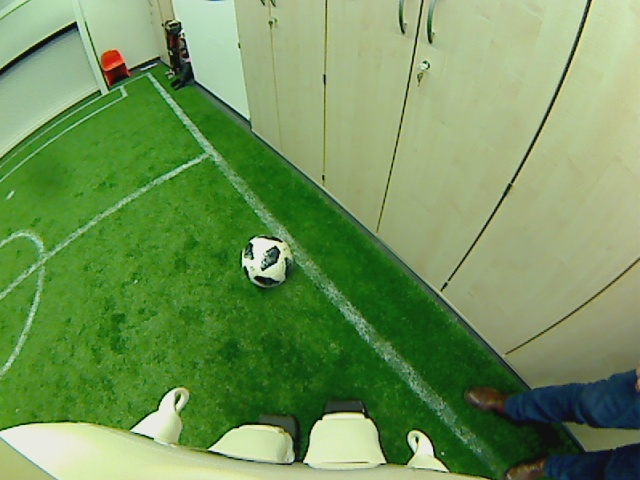ball: (240, 233, 292, 289)
